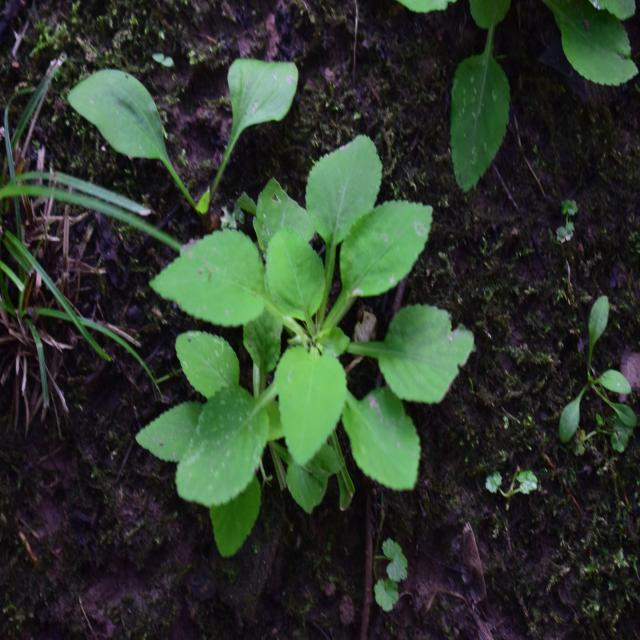Viola: (164, 170, 488, 540)
